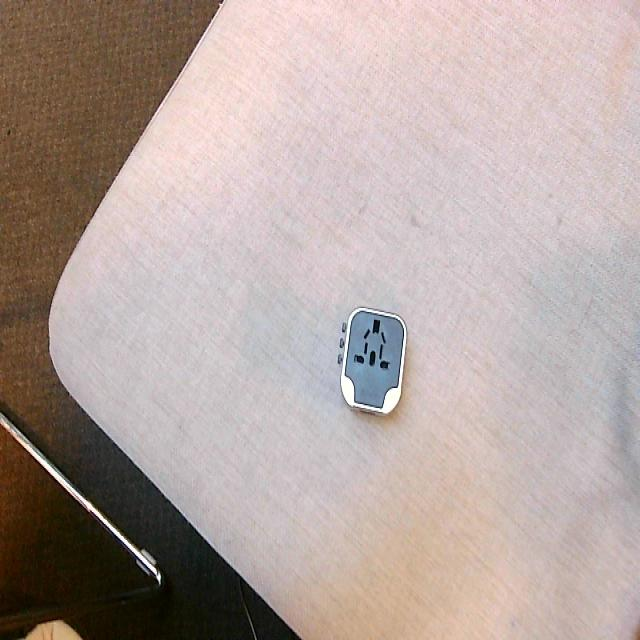adapter: (336, 305, 407, 415)
